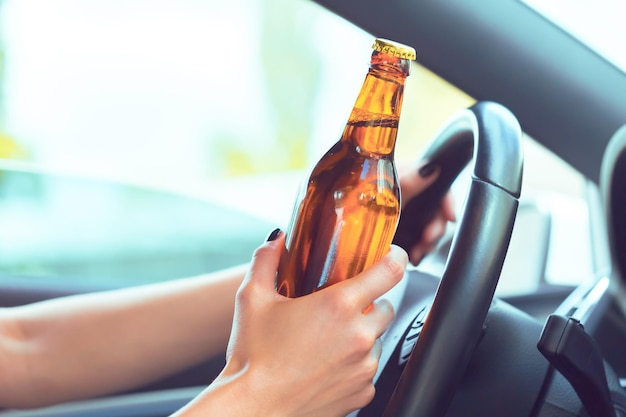alcohol: (272, 36, 415, 320)
